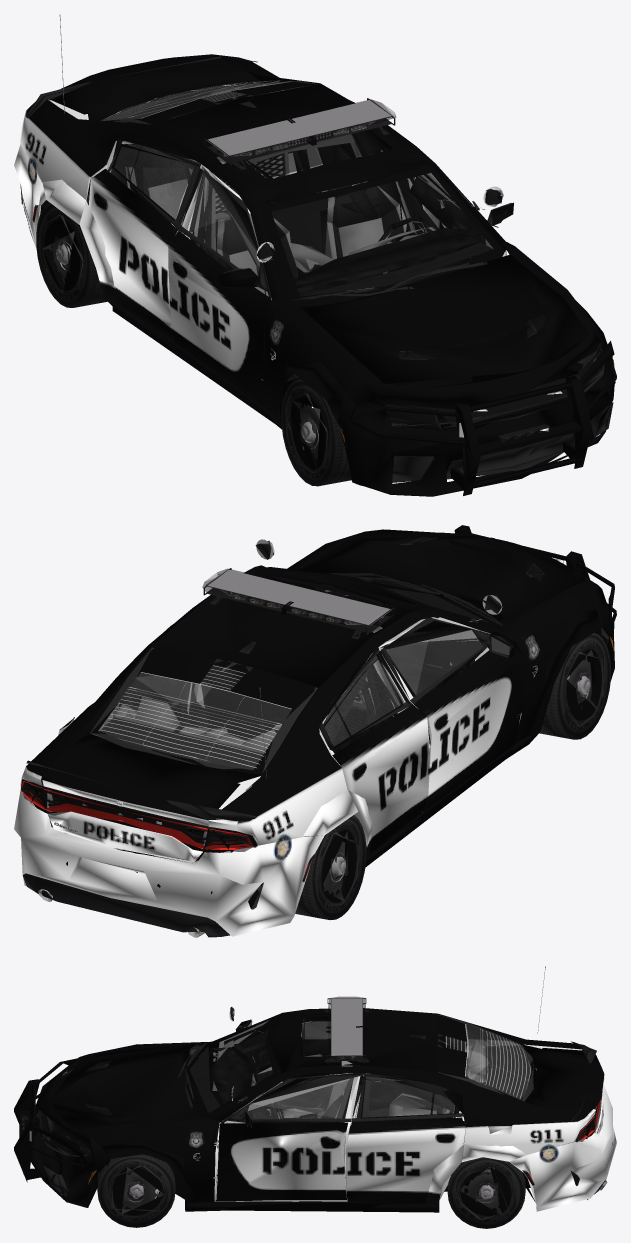
The model's file is police_charger.glb.
The picture shows the model from 3 angles, top to bottom: view 1: azimuth 30°, elevation 25°; view 2: azimuth 150°, elevation 25°; view 3: azimuth 270°, elevation 25°; orthographic projection. The views are drawn at different scales.
Visible parts, largest first — view 1: boot.005_CAR_PAINT_0, bonnet.001_CAR_PAINT_0, window_lf_ext.001_EXT_Glass_0, WHEEL_FL_dueleratnik.001_0, boot_SUB2.001_EXT_Plastic_0, PART_20_EXT_Plastic_Env_0, door_lf_SUB9.001_EXT_Rubber_0, door_lf_SUB13.001_INT_Plastic_Slush_blk_DIF_0, misc_c.004_Glass_0, door_lf_SUB14.001_INT_moket2_third_paint_0, PART_12_EXT_Chrome.001_0, window_lf_int.001_INTERNAL_glass_0 (+18 smaller); view 2: boot.005_CAR_PAINT_0, window_lf_ext.001_EXT_Glass_0, bonnet.001_CAR_PAINT_0, boot_SUB2.001_EXT_Plastic_0, WHEEL_FL_dueleratnik.001_0, door_lf_SUB9.001_EXT_Rubber_0, misc_c.004_Glass_0, window_lf_int.001_INTERNAL_glass_0, door_lf_SUB13.001_INT_Plastic_Slush_blk_DIF_0, PART_6_INT_Plastic.001_0, PART_12_EXT_Chrome.001_0, chassis_SUB22.001_INT_alcnt_0 (+14 smaller); view 3: boot.005_CAR_PAINT_0, bonnet.001_CAR_PAINT_0, window_lf_ext.001_EXT_Glass_0, WHEEL_FL_dueleratnik.001_0, door_lf_SUB13.001_INT_Plastic_Slush_blk_DIF_0, door_lf_SUB9.001_EXT_Rubber_0, boot_SUB2.001_EXT_Plastic_0, window_lf_int.001_INTERNAL_glass_0, PART_20_EXT_Plastic_Env_0, boot.003_frame_0, boot_SUB0.001_SKIN_01_0, RIM_FL_Wheel_dinghyblack_0 (+13 smaller).
Part boxes in pixels (x1=…): boot.005_CAR_PAINT_0: x1=14, y1=54, x2=602, y2=429; bonnet.001_CAR_PAINT_0: x1=298, y1=203, x2=615, y2=496; window_lf_ext.001_EXT_Glass_0: x1=103, y1=80, x2=504, y2=306; WHEEL_FL_dueleratnik.001_0: x1=36, y1=149, x2=351, y2=486; boot_SUB2.001_EXT_Plastic_0: x1=26, y1=56, x2=613, y2=482; PART_20_EXT_Plastic_Env_0: x1=349, y1=340, x2=616, y2=495; door_lf_SUB9.001_EXT_Rubber_0: x1=100, y1=81, x2=511, y2=306; door_lf_SUB13.001_INT_Plastic_Slush_blk_DIF_0: x1=114, y1=132, x2=485, y2=296; misc_c.004_Glass_0: x1=32, y1=130, x2=615, y2=447; door_lf_SUB14.001_INT_moket2_third_paint_0: x1=143, y1=147, x2=438, y2=279; PART_12_EXT_Chrome.001_0: x1=59, y1=14, x2=484, y2=209; window_lf_int.001_INTERNAL_glass_0: x1=115, y1=81, x2=293, y2=254; boot.005_CAR_PAINT_0: x1=14, y1=529, x2=601, y2=936; window_lf_ext.001_EXT_Glass_0: x1=90, y1=577, x2=501, y2=774; bonnet.001_CAR_PAINT_0: x1=299, y1=529, x2=614, y2=680; boot_SUB2.001_EXT_Plastic_0: x1=21, y1=537, x2=610, y2=937; WHEEL_FL_dueleratnik.001_0: x1=295, y1=590, x2=610, y2=919; door_lf_SUB9.001_EXT_Rubber_0: x1=90, y1=567, x2=510, y2=774; misc_c.004_Glass_0: x1=21, y1=575, x2=613, y2=881; window_lf_int.001_INTERNAL_glass_0: x1=134, y1=640, x2=442, y2=746; door_lf_SUB13.001_INT_Plastic_Slush_blk_DIF_0: x1=128, y1=595, x2=484, y2=752; PART_6_INT_Plastic.001_0: x1=201, y1=669, x2=383, y2=747; PART_12_EXT_Chrome.001_0: x1=205, y1=569, x2=391, y2=778; chassis_SUB22.001_INT_alcnt_0: x1=98, y1=717, x2=263, y2=770; boot.005_CAR_PAINT_0: x1=81, y1=1008, x2=616, y2=1211; bonnet.001_CAR_PAINT_0: x1=30, y1=1043, x2=351, y2=1207; window_lf_ext.001_EXT_Glass_0: x1=185, y1=1014, x2=533, y2=1118; WHEEL_FL_dueleratnik.001_0: x1=97, y1=1154, x2=525, y2=1228; door_lf_SUB13.001_INT_Plastic_Slush_blk_DIF_0: x1=209, y1=1039, x2=453, y2=1122; door_lf_SUB9.001_EXT_Rubber_0: x1=185, y1=1014, x2=536, y2=1128; boot_SUB2.001_EXT_Plastic_0: x1=35, y1=1019, x2=606, y2=1199; window_lf_int.001_INTERNAL_glass_0: x1=248, y1=1042, x2=489, y2=1118; PART_20_EXT_Plastic_Env_0: x1=14, y1=1058, x2=88, y2=1182; boot.003_frame_0: x1=51, y1=1073, x2=597, y2=1212; boot_SUB0.001_SKIN_01_0: x1=212, y1=1021, x2=601, y2=1201; RIM_FL_Wheel_dinghyblack_0: x1=110, y1=1165, x2=508, y2=1219.
Size of what is drawn, in the model's own units: 1.17 by 0.9577 by 2.91.
89 materials, 50 textured.
